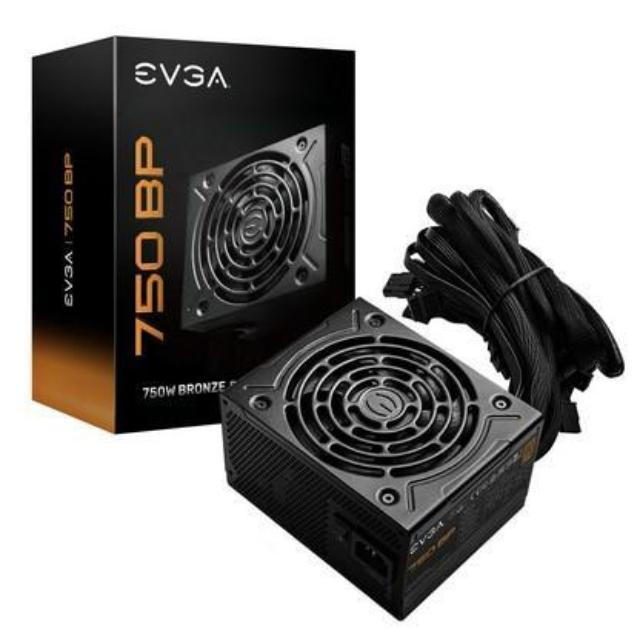PSU: (216, 294, 553, 628)
